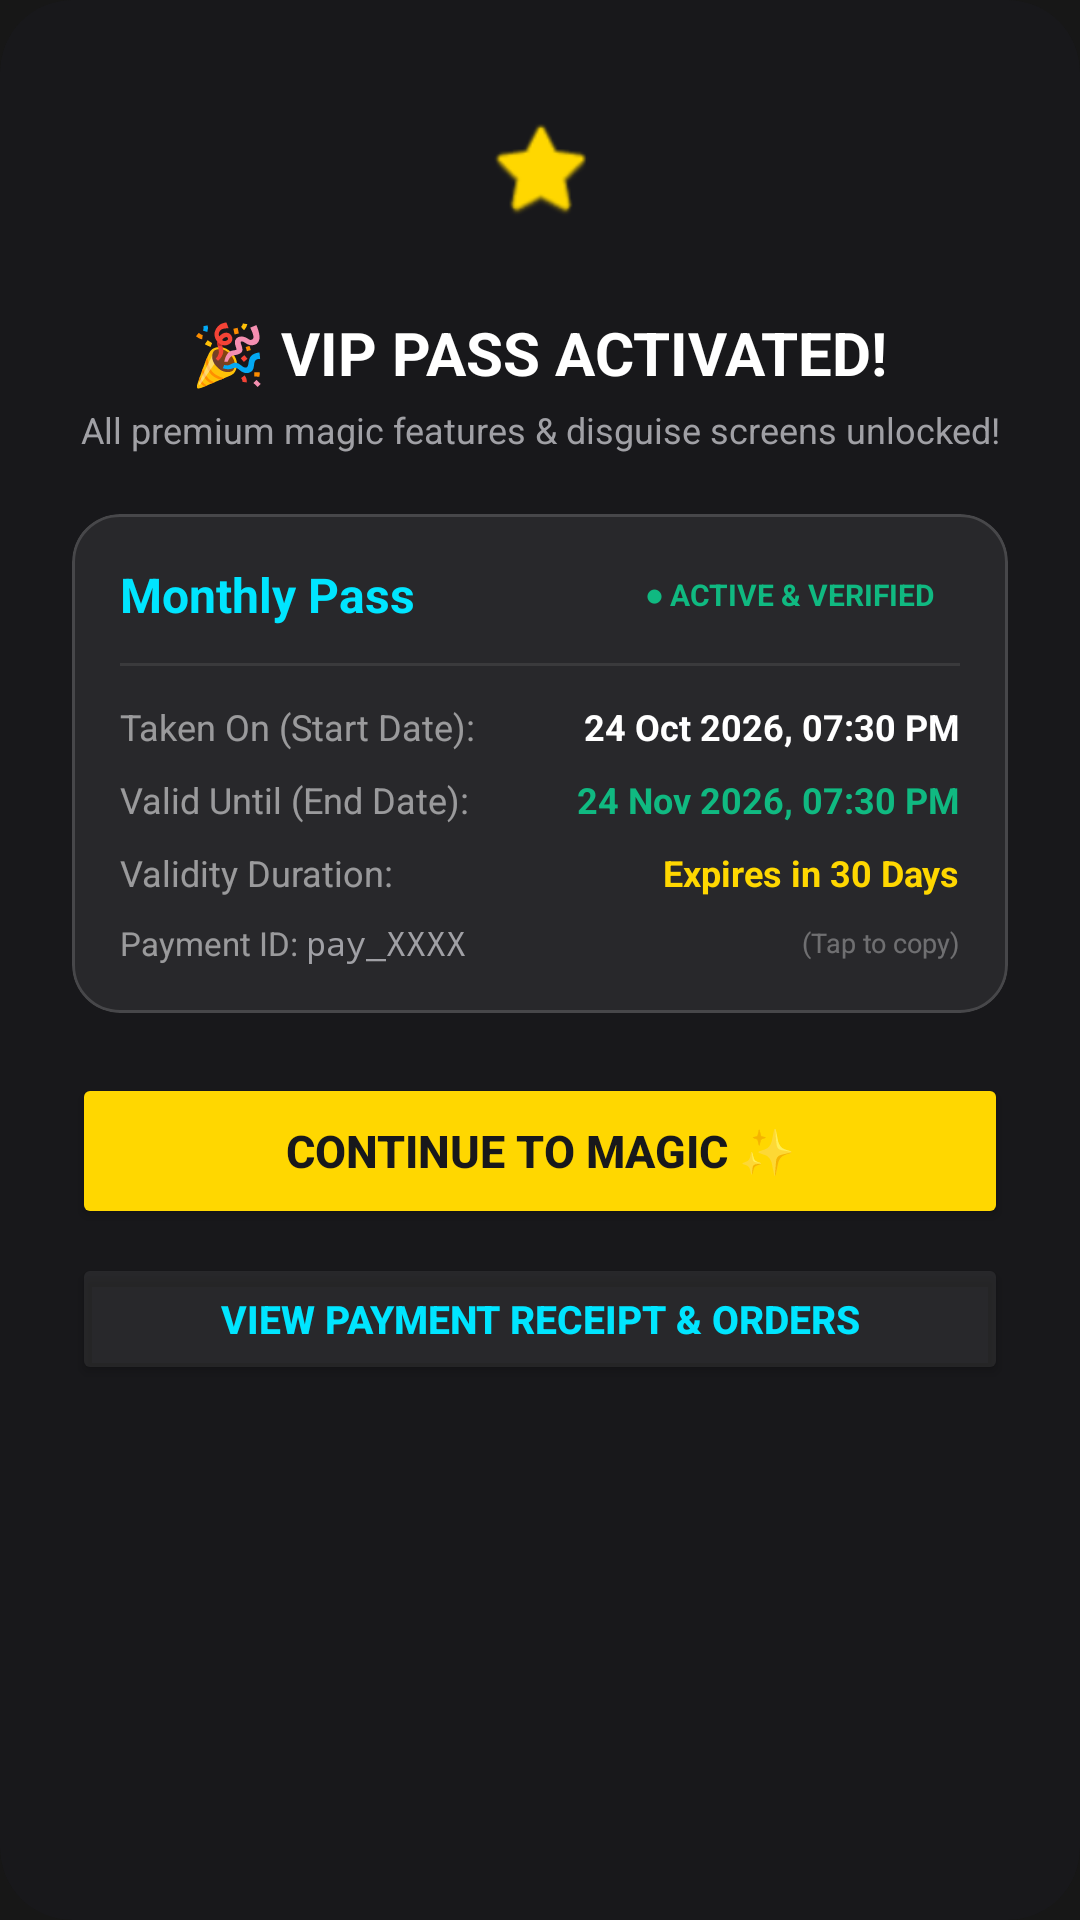

Screen size 1080×1920. Icon name, then its center in pixels as point (x, y):
star on: point (541, 169)
